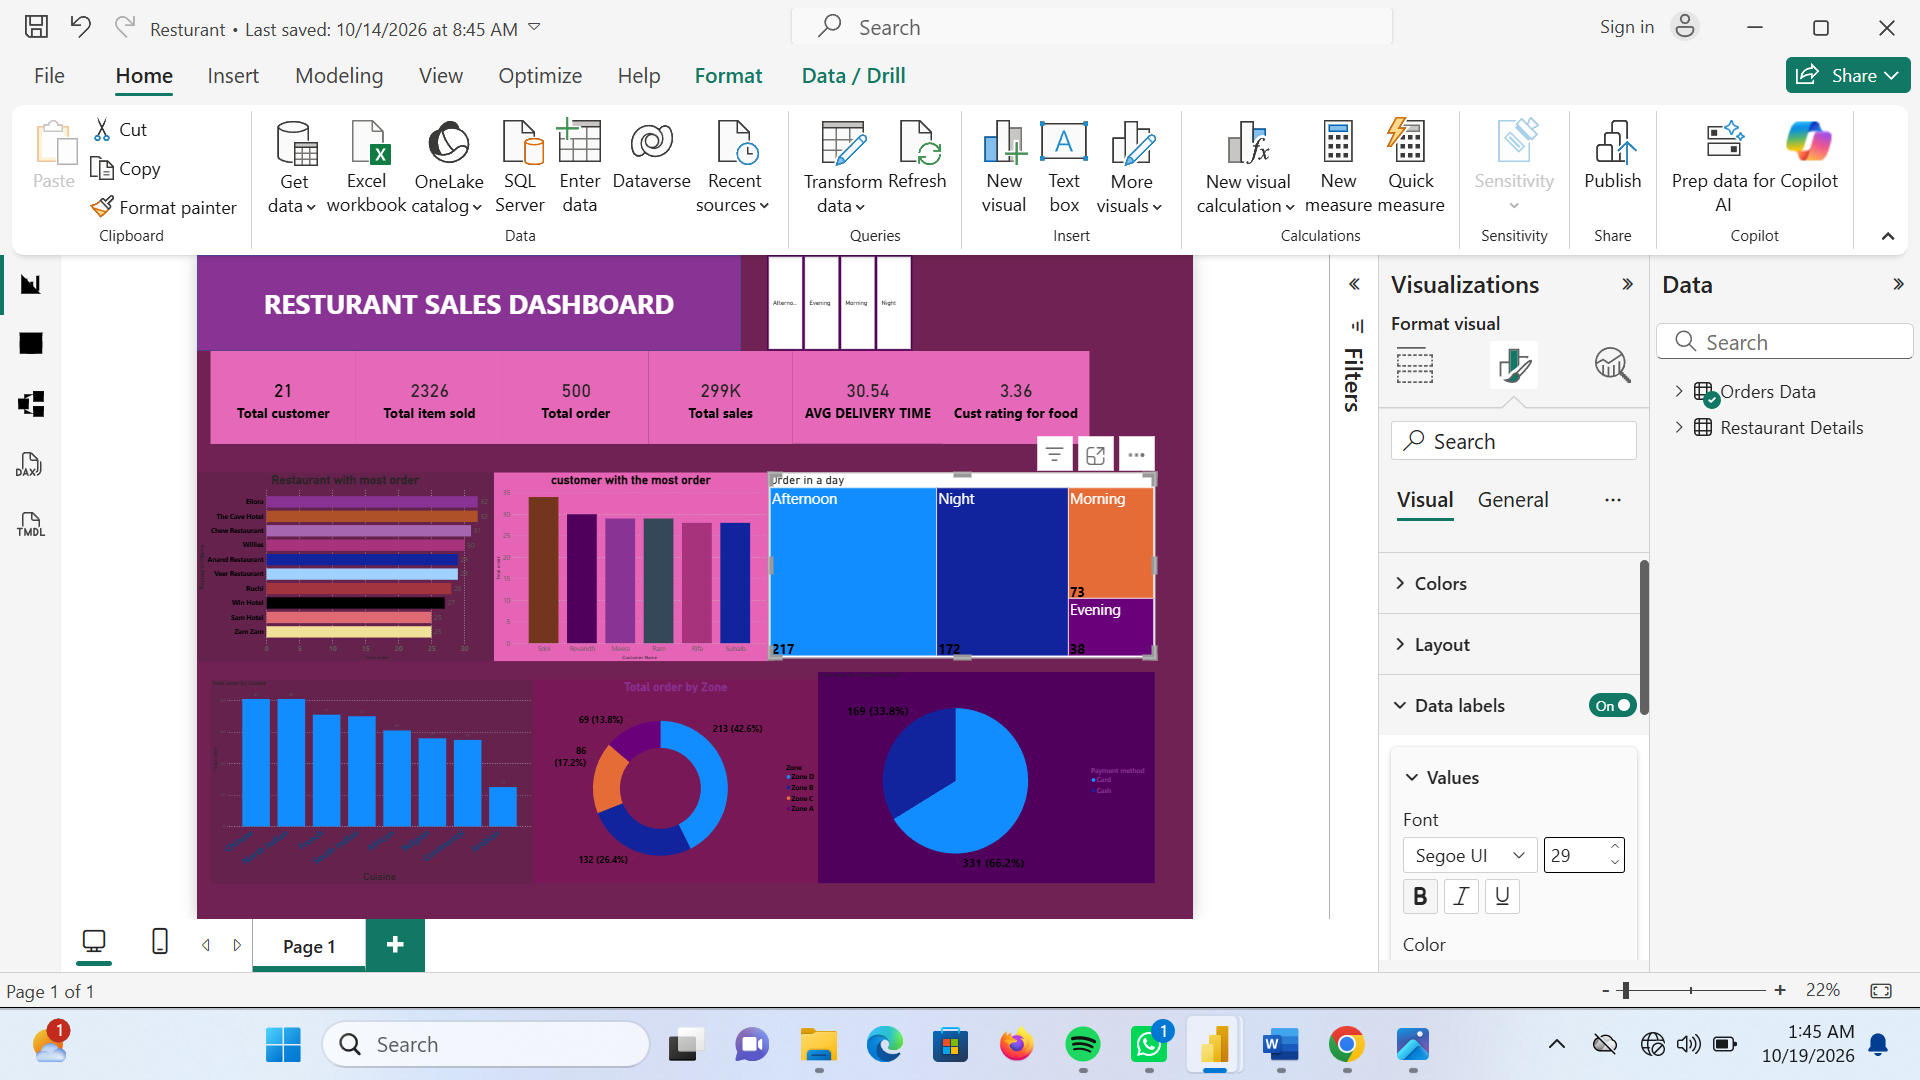

The page's visual inventory and layout, read from the dashboard file:
{"tool":"powerbi","page":{"name":"Page 1","canvas":[3000,2000],"ordinal":0},"visuals":[{"type":"card","fields":{"Values":["Orders Data.Total customer"]},"box":[40.7,289.2,438.3,280.1],"z":0},{"type":"card","fields":{"Values":["Orders Data.Total item sold"]},"box":[478.9,289.2,442.8,280.1],"z":1000},{"type":"card","fields":{"Values":["Orders Data.Total order"]},"box":[921.7,289.2,438.3,280.1],"z":2000},{"type":"card","fields":{"Values":["Orders Data.Total sales"]},"box":[1360,289.2,433.7,280.1],"z":3000},{"type":"card","fields":{"Values":["Orders Data.AVG DELIVERY TIME"]},"box":[1792.3,289.7,453.8,279.5],"z":4000},{"type":"card","fields":{"Values":["Orders Data.Cust rating for food"]},"box":[2245.5,289.2,442.8,280.1],"z":5000},{"type":"barChart","title":"Restaurant with most order","fields":{"Category":["Restaurant Details.RestaurantName"],"Y":["Orders Data.Total order"]},"box":[0,657.1,892.9,567.9],"z":6000},{"type":"columnChart","title":"customer with the most order","fields":{"Category":["Orders Data.Customer Name"],"Y":["Orders Data.Total order"]},"box":[892.9,657.1,825,567.9],"z":7000},{"type":"treemap","title":"Order in a day","fields":{"Group":["Orders Data.Time of Day"],"Values":["Orders Data.Total order"]},"box":[1721.4,657.1,1164.3,557.1],"z":8000},{"type":"clusteredColumnChart","fields":{"Category":["Restaurant Details.Cuisine"],"Y":["Orders Data.Total order"]},"box":[39.3,1278.6,971.4,614.3],"z":9000},{"type":"donutChart","fields":{"Category":["Restaurant Details.Zone"],"Y":["Orders Data.Total order"]},"box":[1010.7,1278.6,860.7,614.3],"z":10000},{"type":"pieChart","fields":{"Y":["Orders Data.Total order"],"Category":["Orders Data.Payment method"]},"box":[1871.4,1257.1,1014.3,635.7],"z":11000},{"type":"shape","box":[0,0,1637.5,287.5],"z":12000},{"type":"advancedSlicerVisual","fields":{"Values":["Orders Data.Time of Day"]},"box":[1719,0,438,288],"z":13000}]}

Visuals, with their boxes on the page's 3000x2000 design canvas (x1, y1, x2, y2). These are canvas units, not pixel positions in the 1920x1080 screenshot, which may show the page scaled, cropped or inside an application window:
card - Orders Data.Total customer: 41/289/479/569
card - Orders Data.Total item sold: 479/289/922/569
card - Orders Data.Total order: 922/289/1360/569
card - Orders Data.Total sales: 1360/289/1794/569
card - Orders Data.AVG DELIVERY TIME: 1792/290/2246/569
card - Orders Data.Cust rating for food: 2246/289/2688/569
"Restaurant with most order" barChart: 0/657/893/1225
"customer with the most order" columnChart: 893/657/1718/1225
"Order in a day" treemap: 1721/657/2886/1214
clusteredColumnChart - Restaurant Details.Cuisine x Orders Data.Total order: 39/1279/1011/1893
donutChart - Restaurant Details.Zone x Orders Data.Total order: 1011/1279/1871/1893
pieChart - Orders Data.Total order x Orders Data.Payment method: 1871/1257/2886/1893
shape: 0/0/1638/288
advancedSlicerVisual - Orders Data.Time of Day: 1719/0/2157/288
